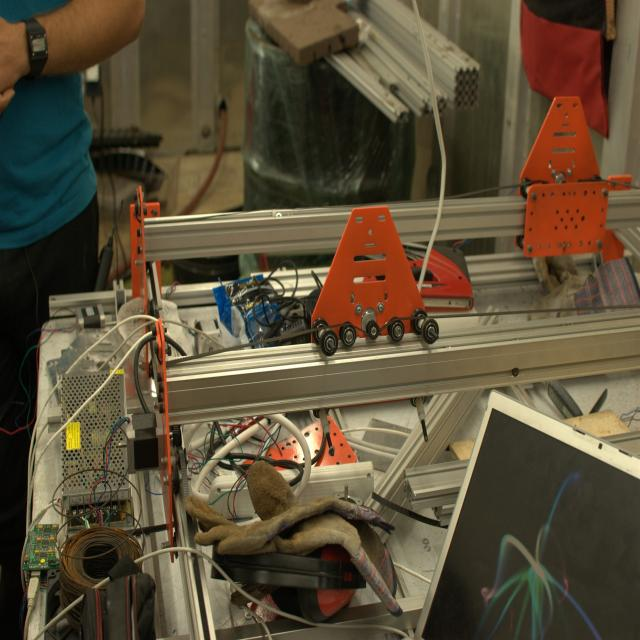E-waste: (123, 32, 634, 408), (22, 192, 430, 640)
